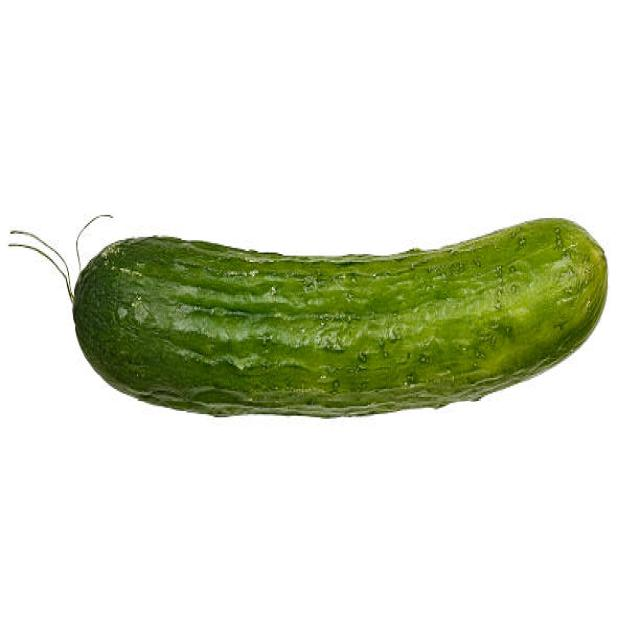cucumber: (72, 218, 608, 418)
